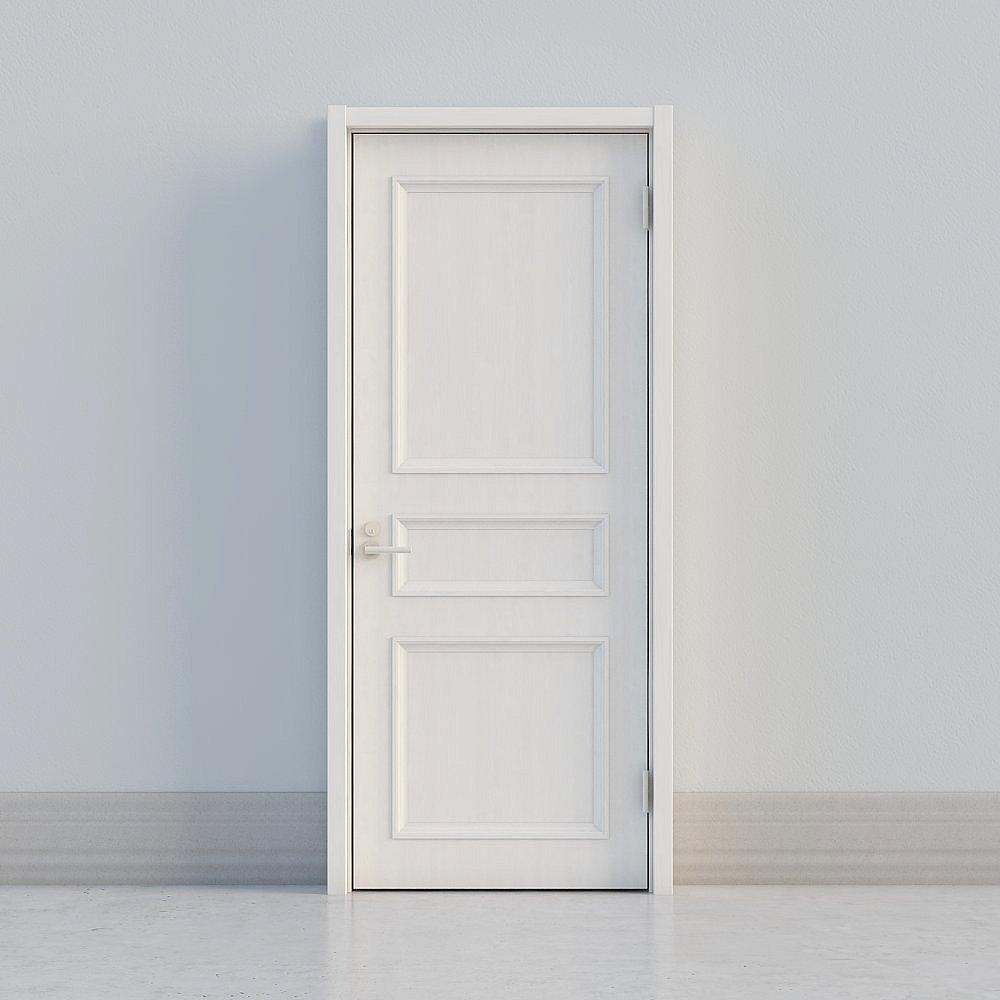door: (349, 129, 654, 884)
